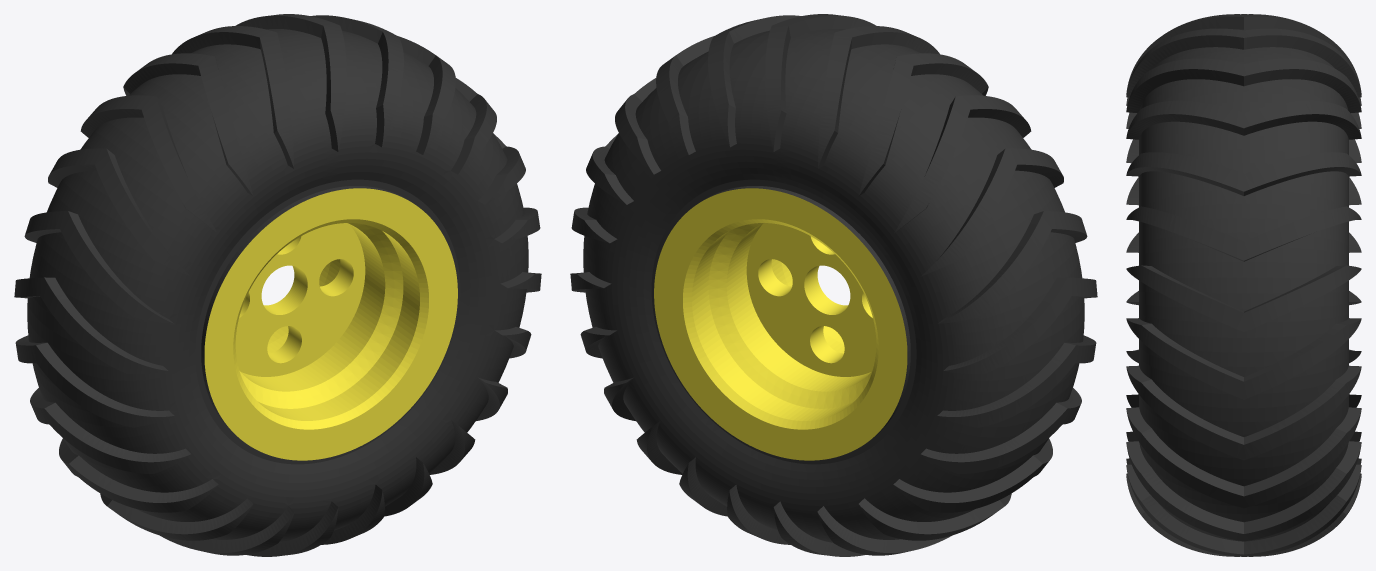
Rendered from RoverWheel.dae.
3 views of the same model, side by side, from view 1: azimuth 30°, elevation 25°; view 2: azimuth 150°, elevation 25°; view 3: azimuth 270°, elevation 25° (orthographic). The views are drawn at different scales.
Visible parts, largest first — view 1: node1, node0; view 2: node1, node0; view 3: node1.
Boxes of the visible parts, x1=… form: node1: x1=14, y1=14, x2=541, y2=556; node0: x1=204, y1=188, x2=457, y2=460; node1: x1=570, y1=14, x2=1097, y2=556; node0: x1=654, y1=188, x2=907, y2=460; node1: x1=1126, y1=14, x2=1361, y2=556.
Size of the model in its own units: 0.4199 by 0.1814 by 0.4199.
